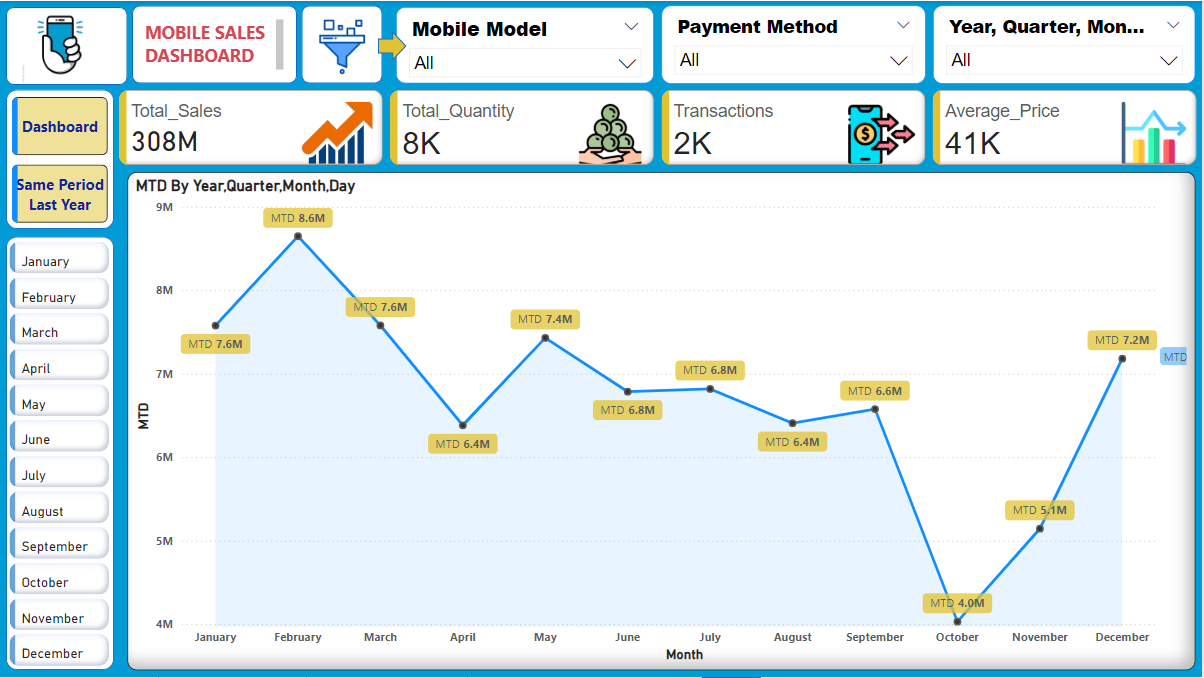

What the dashboard file says about the page in this screenshot:
{"tool":"powerbi","page":{"name":"MTD Report","canvas":[1280,720],"ordinal":1},"visuals":[{"type":"shape","box":[6.4,6.4,129.4,83.1],"z":0},{"type":"image","box":[6.4,0,115,92.7],"z":1000},{"type":"shape","box":[6.4,94.3,115,148.6],"z":2000},{"type":"cardVisual","fields":{"Data":["Mobile_Sales_Data.TOTAL_SALES","Mobile_Sales_Data.TOTAL_QUANTITY","Mobile_Sales_Data.TOTAL_TRANSACTIONS","Mobile_Sales_Data.AVERAGE_PRICE"]},"box":[121.4,89.5,1158.3,90],"z":3000},{"type":"slicer","fields":{"Values":["Mobile_Sales_Data.Mobile Model"]},"box":[421.8,6.4,274.8,81.5],"z":4000},{"type":"slicer","fields":{"Values":["Mobile_Sales_Data.Payment Method"]},"box":[704.6,4.8,281.2,83.1],"z":5000},{"type":"slicer","fields":{"Values":["Custom_Calender.Date.Variation.Date Hierarchy.Year","Custom_Calender.Date.Variation.Date Hierarchy.Quarter","Custom_Calender.Date.Variation.Date Hierarchy.Month","Custom_Calender.Date.Variation.Date Hierarchy.Day"]},"box":[993.8,4.8,279.6,83.1],"z":6000},{"type":"shape","box":[321.1,4.8,86.3,83.1],"z":7000},{"type":"image","box":[329.1,9.6,70.3,78.3],"z":8000},{"type":"shape","box":[402.6,32,30.4,32],"z":9000},{"type":"shape","box":[140.6,4.8,175.7,83.1],"z":10000},{"type":"textbox","box":[148.6,14.4,158.2,70.3],"z":11000},{"type":"shape","box":[6.4,250.8,115,461.7],"z":12000},{"type":"lineChart","title":"MTD By Year,Quarter,Month,Day","fields":{"Y":["Mobile_Sales_Data.MTD"],"Category":["Custom_Calender.Date.Variation.Date Hierarchy.Year","Custom_Calender.Date.Variation.Date Hierarchy.Quarter","Custom_Calender.Date.Variation.Date Hierarchy.Month","Custom_Calender.Date.Variation.Date Hierarchy.Day"]},"box":[135.8,182.1,1137.5,530.4],"z":13000},{"type":"advancedSlicerVisual","fields":{"Values":["Custom_Calender.Date.Variation.Date Hierarchy.Month"]},"box":[4.8,250.8,116.6,468.1],"z":14000},{"type":"pageNavigator","box":[12.8,102.3,102.3,134.2],"z":15000}]}

Visuals, with their boxes in screenshot pixels (x1, y1, x2, y2), scaled from the page's 1280x720 canvas onto the 1204x678 screenshot:
shape: select_region(6, 6, 128, 84)
image: select_region(6, 0, 114, 87)
shape: select_region(6, 89, 114, 229)
cardVisual - Mobile_Sales_Data.TOTAL_SALES x Mobile_Sales_Data.TOTAL_QUANTITY: select_region(114, 84, 1203, 169)
slicer - Mobile_Sales_Data.Mobile Model: select_region(397, 6, 655, 83)
slicer - Mobile_Sales_Data.Payment Method: select_region(663, 5, 927, 83)
slicer - Custom_Calender.Date.Variation.Date Hierarchy.Year x Custom_Calender.Date.Variation.Date Hierarchy.Quarter: select_region(935, 5, 1198, 83)
shape: select_region(302, 5, 383, 83)
image: select_region(310, 9, 376, 83)
shape: select_region(379, 30, 407, 60)
shape: select_region(132, 5, 298, 83)
textbox: select_region(140, 14, 289, 80)
shape: select_region(6, 236, 114, 671)
"MTD By Year,Quarter,Month,Day" lineChart: select_region(128, 171, 1198, 671)
advancedSlicerVisual - Custom_Calender.Date.Variation.Date Hierarchy.Month: select_region(5, 236, 114, 677)
pageNavigator: select_region(12, 96, 108, 223)
